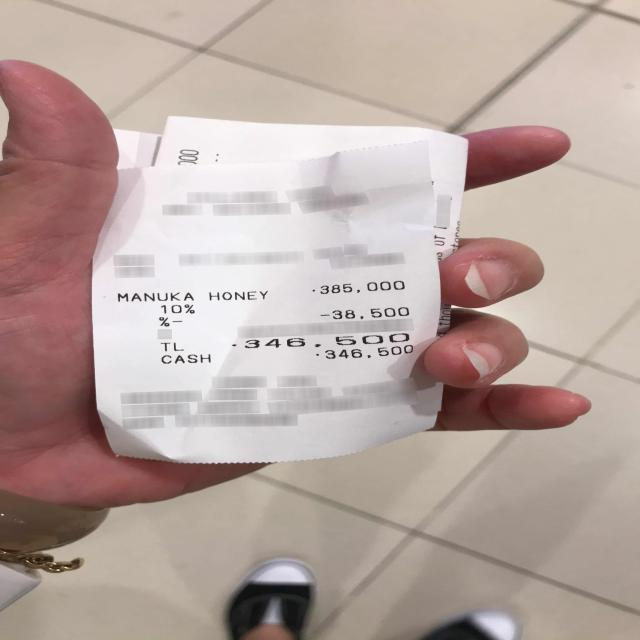kertas: (88, 140, 444, 467)
